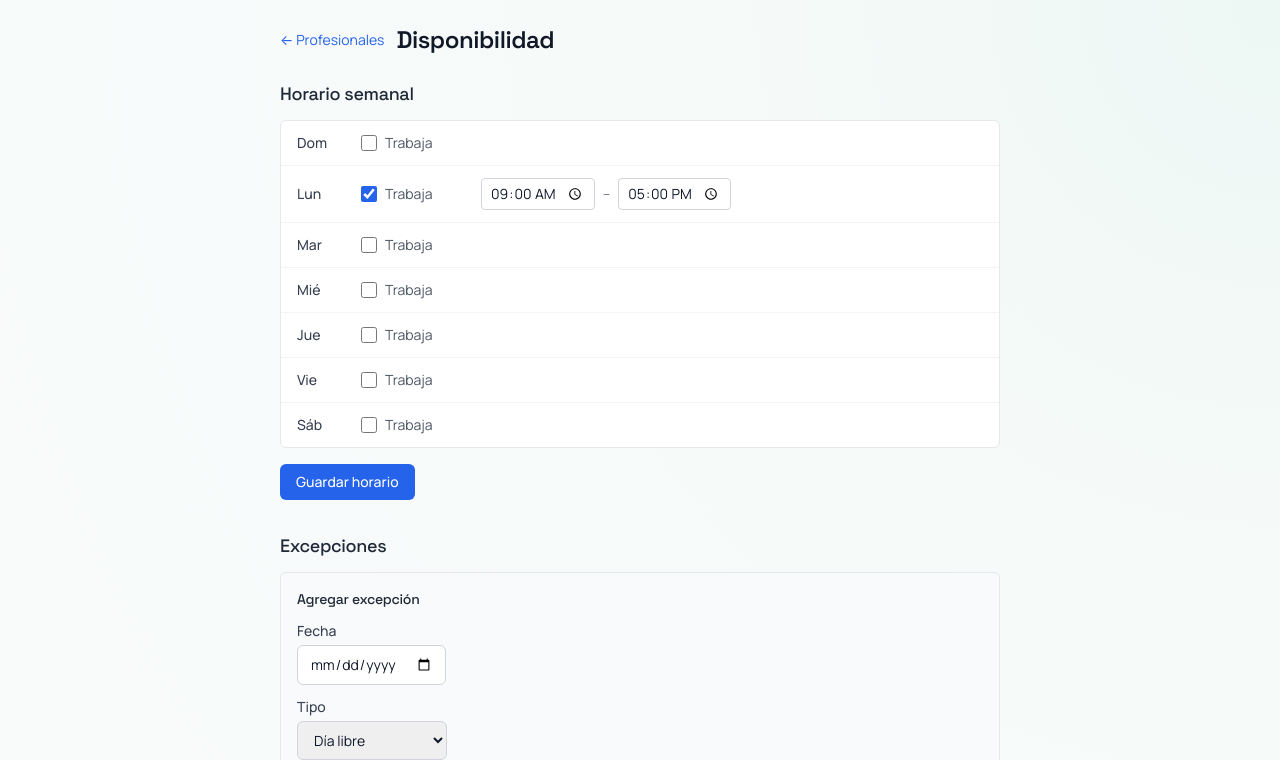
Test: StaffAvailabilityPage › shows success message after saving schedule
Click the button "Guardar horario": {"x": 347, "y": 482} left=280, top=464, right=415, bottom=500
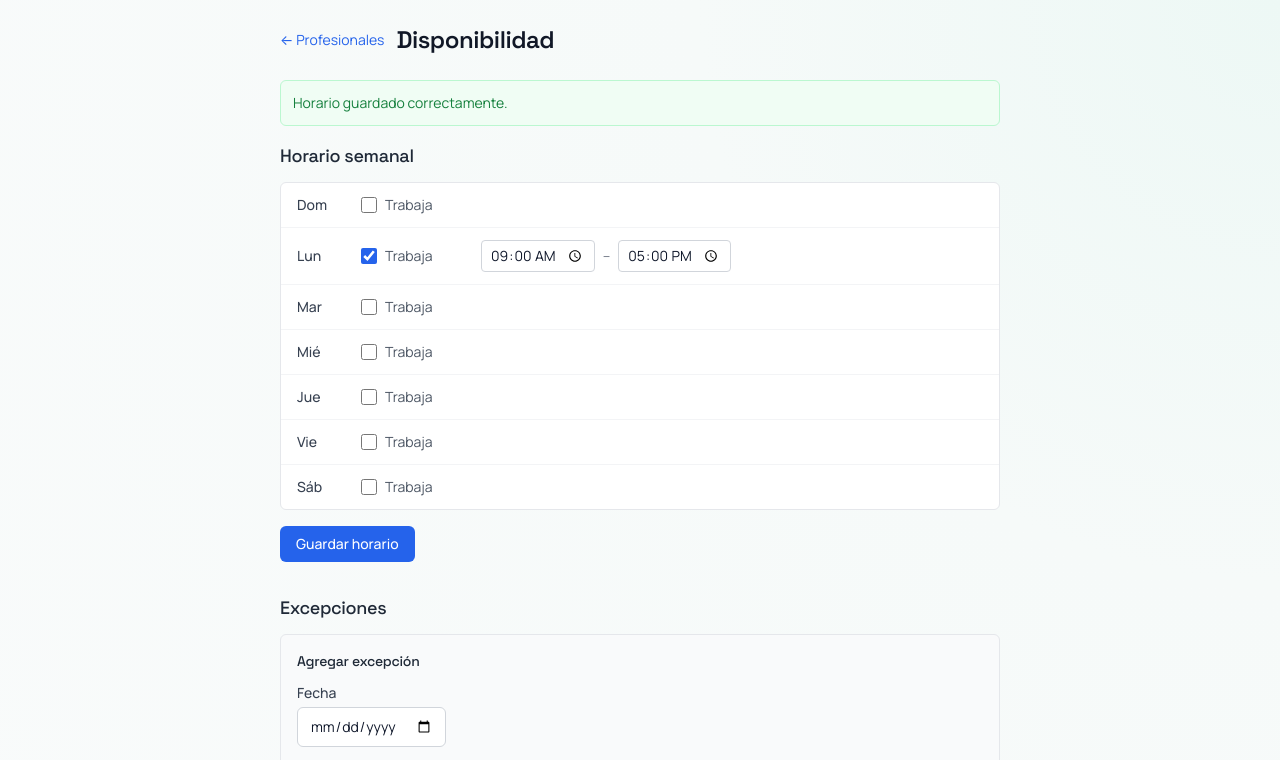
expect the text "Horario guardado correctamente." is shown: met, box left=280, top=80, right=1000, bottom=126
